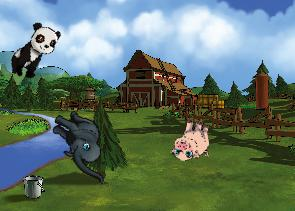elephant: (38, 105, 124, 184)
panda: (5, 18, 63, 85)
pig: (169, 116, 214, 164)
